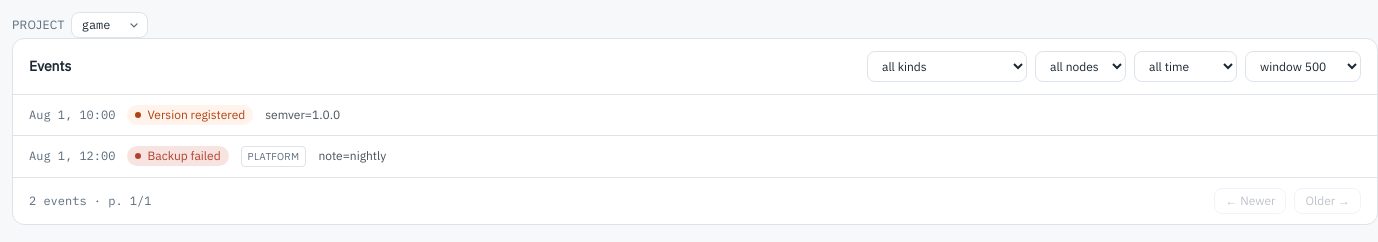
it: EnvProvider под ProjectProvider › экран Событий: голого /v1/events не бывает, смена проекта перезапрашивает суженную ленту
Expected: the text "semver=1.0.0" is shown, [265,107,340,122]
Expected: the text "9.9.9" is not shown
Select "window 200" in the dropdown named "Feed window size" at coordinates (1303, 66), box [1245,51,1361,82]
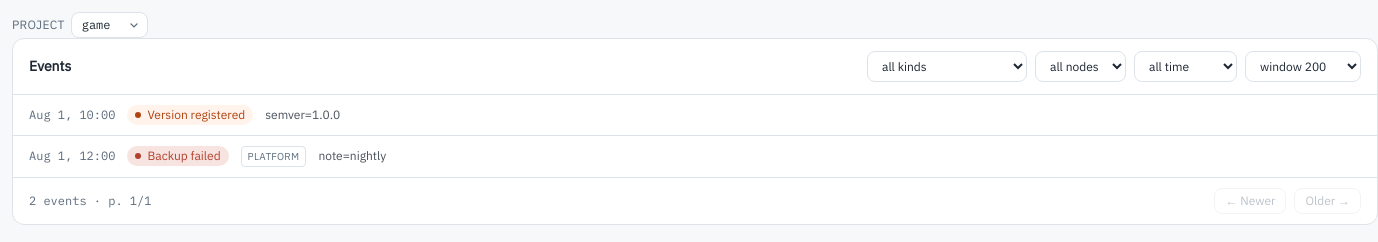
Select "arena" in the dropdown named "Project" at coordinates (109, 25), box [71,12,148,38]
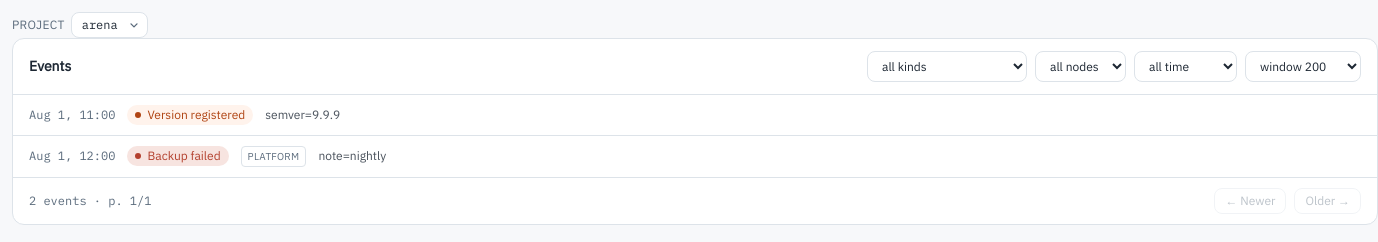
Result: the text "semver=9.9.9" is shown at [265,107,340,122]
Result: the text "1.0.0" is gone
